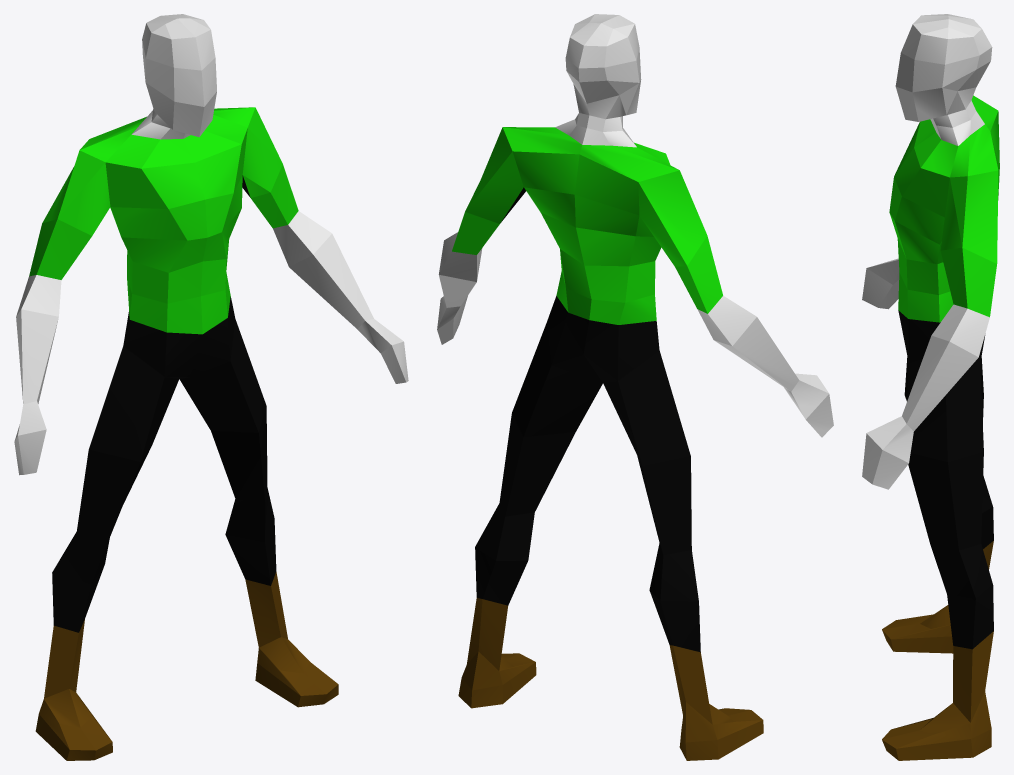
The model's file is Citizen01.fbx.
The picture shows the model from 3 angles, left to right: view 1: azimuth 30°, elevation 25°; view 2: azimuth 150°, elevation 25°; view 3: azimuth 270°, elevation 25°; orthographic projection. The views are drawn at different scales.
Visible parts, largest first — view 1: BASE_Low_Poly_Man_Cube.001; view 2: BASE_Low_Poly_Man_Cube.001; view 3: BASE_Low_Poly_Man_Cube.001.
Boxes of the visible parts, bbox=[...] form: BASE_Low_Poly_Man_Cube.001: bbox=[14, 14, 408, 760]; BASE_Low_Poly_Man_Cube.001: bbox=[437, 14, 833, 760]; BASE_Low_Poly_Man_Cube.001: bbox=[862, 14, 999, 760].
Bounding box in the file's own units: 96.57 × 165 × 30.47.
